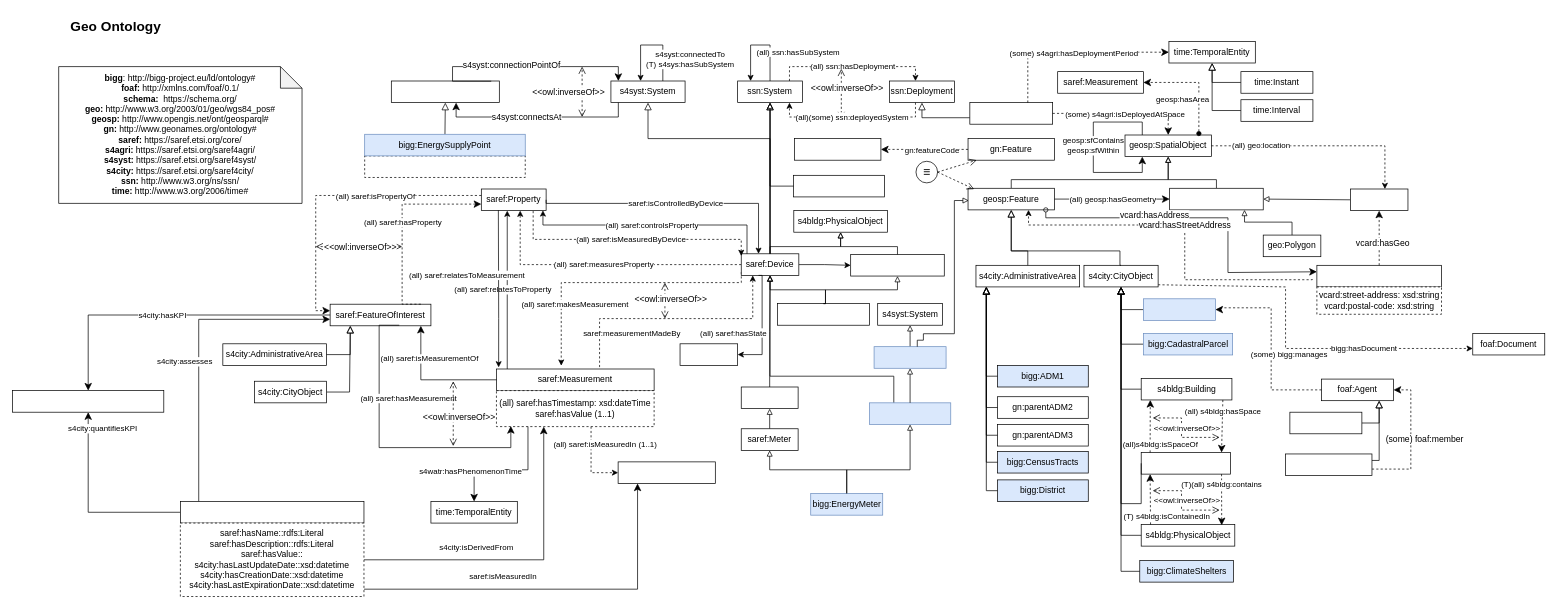
Some shapes in this 1557 by 609 pixel diagram are drawn without their labels. Here are the shapes that lost their labels. From the top down, the box of each, then its label:
(391, 80, 499, 103): s4syst:ConnectionPoint
(969, 102, 1053, 124): s4agri:Deployment
(364, 155, 525, 177): bigg:energySupplyPointNumber: String
(794, 138, 881, 160): gn:Code
(793, 175, 885, 197): s4agri:WeatherStation
(1169, 188, 1263, 210): geosp:Geometry
(1350, 188, 1408, 211): geo:Point
(850, 254, 944, 276): s4bldg:BuildingObject
(1316, 265, 1442, 287): vcard:Address
(777, 303, 869, 325): s4bldg:BuildingDevice
(1143, 298, 1215, 320): bigg:Patrimony
(679, 343, 738, 365): saref:State
(873, 346, 946, 368): bigg:EnergyAsset
(12, 390, 164, 412): s4city : KeyPerformanceIndicator
(741, 386, 798, 409): saref:Sensor
(869, 402, 951, 424): bigg:EnergyDevice
(1289, 411, 1362, 434): foaf:Person
(617, 461, 715, 483): saref:UnitOfMeasure
(1140, 452, 1230, 474): s4bldg:BuildingSpace
(1285, 453, 1372, 476): schema:Organization
(180, 501, 364, 523): s4city : KeyPerformanceIndicatorAssessment
